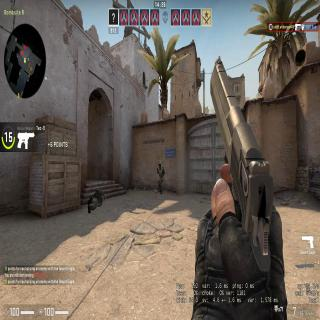CT-Body: (156, 162, 163, 189)
CT-Head: (158, 163, 161, 168)
